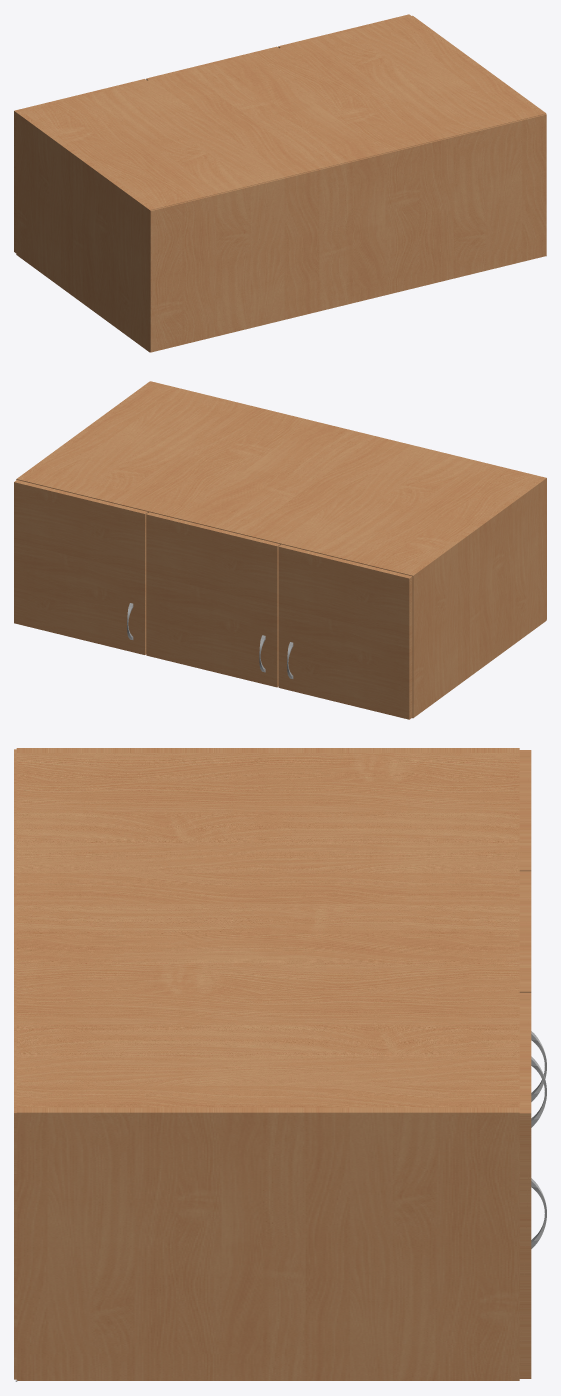
Rendered from antresol_shkafa_pod_raskladushki_2.glb.
The picture shows the model from 3 angles, top to bottom: view 1: azimuth 30°, elevation 25°; view 2: azimuth 150°, elevation 25°; view 3: azimuth 270°, elevation 25°; orthographic projection. The views are drawn at different scales.
Parts seen in each view (by area): view 1: Shape_IndexedFaceSet.006_NON, Shape_IndexedFaceSet.010, Shape_IndexedFaceSet.008, Shape_IndexedFaceSet.005, Shape_IndexedFaceSet.007; view 2: Shape_IndexedFaceSet.010, Shape_IndexedFaceSet.008, Shape_IndexedFaceSet.005, Shape_IndexedFaceSet.003, Shape_IndexedFaceSet.001, Shape_IndexedFaceSet.007; view 3: Shape_IndexedFaceSet.010, Shape_IndexedFaceSet.007, Shape_IndexedFaceSet.001, Shape_IndexedFaceSet.008, Shape_IndexedFaceSet.006_NON, Shape_IndexedFaceSet.003, Shape_IndexedFaceSet.005.
Boxes of the visible parts, x1,y1,x2,y2 form: Shape_IndexedFaceSet.006_NON: [150, 114, 546, 352]; Shape_IndexedFaceSet.010: [22, 17, 540, 209]; Shape_IndexedFaceSet.008: [16, 111, 154, 352]; Shape_IndexedFaceSet.005: [14, 79, 146, 252]; Shape_IndexedFaceSet.007: [408, 15, 546, 114]; Shape_IndexedFaceSet.010: [21, 382, 540, 574]; Shape_IndexedFaceSet.008: [408, 476, 546, 718]; Shape_IndexedFaceSet.005: [278, 544, 412, 719]; Shape_IndexedFaceSet.003: [146, 512, 280, 687]; Shape_IndexedFaceSet.001: [14, 480, 147, 654]; Shape_IndexedFaceSet.007: [16, 381, 154, 480]; Shape_IndexedFaceSet.010: [16, 753, 519, 1107]; Shape_IndexedFaceSet.007: [16, 1107, 519, 1380]; Shape_IndexedFaceSet.001: [519, 993, 531, 1378]; Shape_IndexedFaceSet.008: [16, 748, 519, 752]; Shape_IndexedFaceSet.006_NON: [14, 749, 16, 1379]; Shape_IndexedFaceSet.003: [519, 871, 531, 992]; Shape_IndexedFaceSet.005: [519, 750, 531, 871].
Bounding box in the file's own units: 1201 × 413 × 741.
14 materials, 13 textured.
